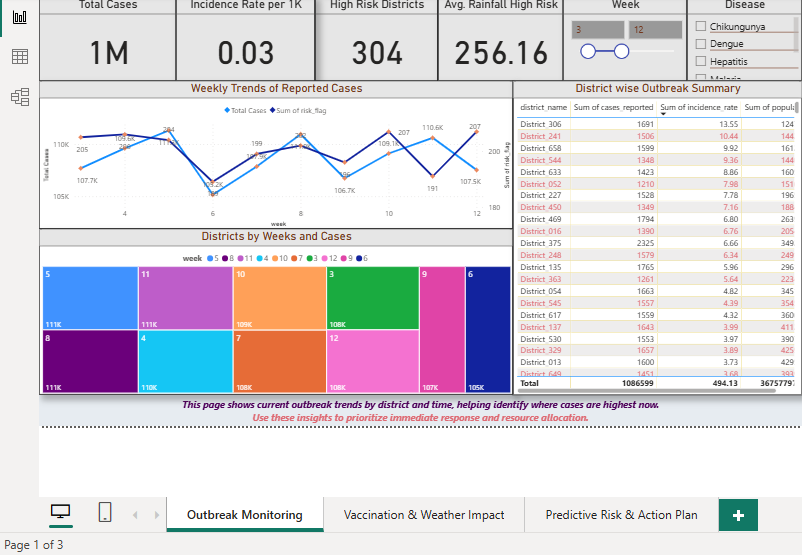

The dashboard page shown, as its layout file describes it:
{"tool":"powerbi","page":{"name":"Outbreak Monitoring","canvas":[1280,720],"ordinal":0},"visuals":[{"type":"card","title":"Total Cases","fields":{"Values":["Master.Total Cases"]},"box":[0,0,229.8,140.9],"z":0},{"type":"textbox","box":[0,667.7,1280,52],"z":1000},{"type":"card","title":"High Risk Districts","fields":{"Values":["Master.High Risk District Count"]},"box":[463,0,206.3,140.9],"z":2000},{"type":"card","title":"Incidence Rate per 1K","fields":{"Values":["Master.Incidence Rate per 1k"]},"box":[229.8,0,233.2,140.9],"z":3000},{"type":"card","title":"Avg. Rainfall High Risk","fields":{"Values":["Master.Avg Rainfall High Risk"]},"box":[669.4,0,209.7,140.9],"z":4000},{"type":"slicer","title":"Week","fields":{"Values":["Master.week"]},"box":[879.1,0,208,140.9],"z":5000},{"type":"slicer","title":"Disease","fields":{"Values":["Master.disease"]},"box":[1087.1,0,192.9,140.9],"z":6000},{"type":"lineChart","title":"Weekly Trends of Reported Cases","fields":{"Category":["Master.week"],"Y":["Master.Total Cases"],"Y2":["Sum(Master.risk_flag)"]},"box":[0,140.9,795.2,248.3],"z":7000},{"type":"treemap","title":"Districts by Weeks and Cases","fields":{"Group":["Master.week"],"Values":["Master.Total Cases"]},"box":[0,389.2,795.2,278.5],"z":8000},{"type":"tableEx","title":"District wise Outbreak Summary","fields":{"Values":["Master.district_name","Sum(Master.cases_reported)","Sum(Master.incidence_rate)","Sum(Master.population)"]},"box":[795.2,140.9,484.8,526.8],"z":9000}]}

Visuals, with their boxes in screenshot pixels (x1, y1, x2, y2):
"Total Cases" card: crop(36, 0, 172, 80)
textbox: crop(36, 394, 798, 425)
"High Risk Districts" card: crop(311, 0, 434, 80)
"Incidence Rate per 1K" card: crop(172, 0, 311, 80)
"Avg. Rainfall High Risk" card: crop(434, 0, 559, 80)
"Week" slicer: crop(559, 0, 683, 80)
"Disease" slicer: crop(683, 0, 798, 80)
"Weekly Trends of Reported Cases" lineChart: crop(36, 80, 509, 228)
"Districts by Weeks and Cases" treemap: crop(36, 228, 509, 394)
"District wise Outbreak Summary" tableEx: crop(509, 80, 798, 394)
